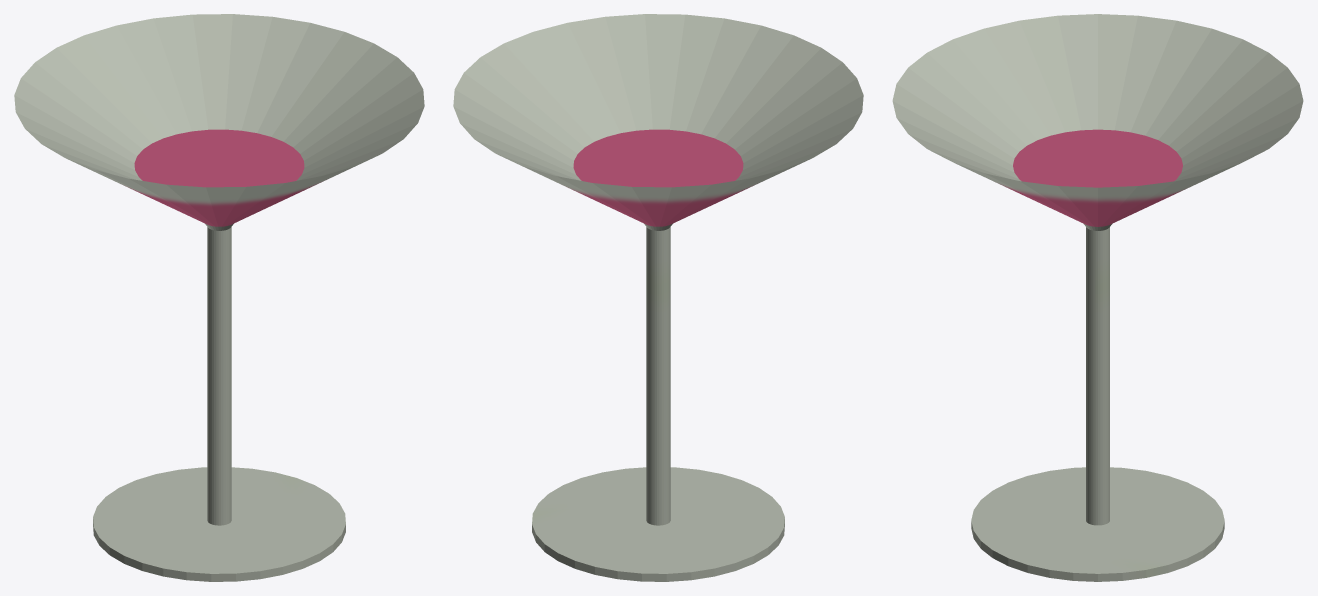
Rendered from wine.glb.
The picture shows the model from 3 angles, left to right: view 1: azimuth 30°, elevation 25°; view 2: azimuth 150°, elevation 25°; view 3: azimuth 270°, elevation 25°; orthographic projection.
Visible parts, largest first — view 1: Cylinder; view 2: Cylinder; view 3: Cylinder.
Part boxes in pixels (x1,y1,x2,y2): Cylinder: (14,14,424,581); Cylinder: (453,14,863,581); Cylinder: (892,14,1303,581).
Size of the model in its own units: 0.5983 by 0.6869 by 0.5983.
Materials: 1 (1 with a texture image).
